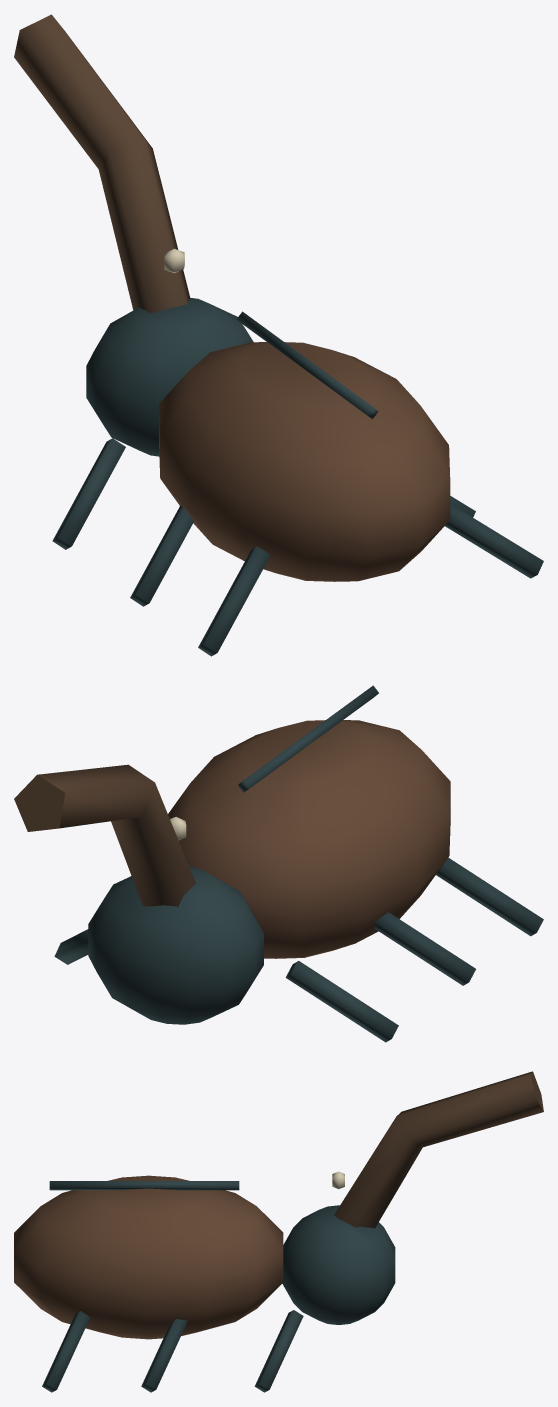
File: insect_rhinoceros_beetle.glb
3 views of the same model, one above another, from view 1: azimuth 30°, elevation 25°; view 2: azimuth 150°, elevation 25°; view 3: azimuth 270°, elevation 25° (orthographic). The views are drawn at different scales.
Size of the model in its own units: 0.101 by 0.1027 by 0.1869.
